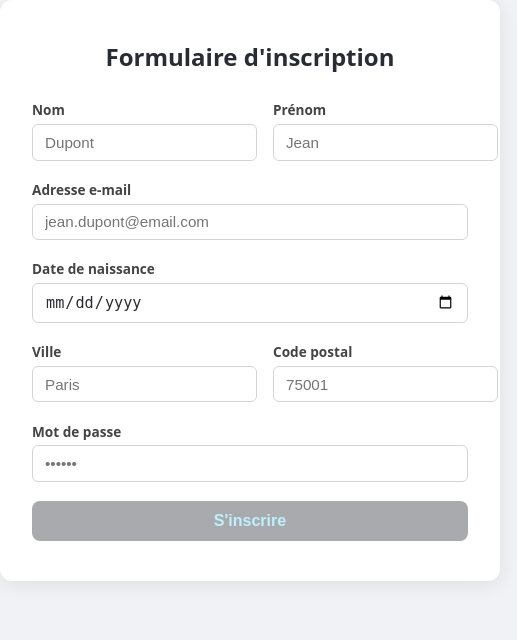
Test: shows a red error when prenom contains special characters after blur
The image size is (517, 640).
In the field labelled "Prénom": coordinates (386, 142) [273, 124, 498, 161], type "Julio2"
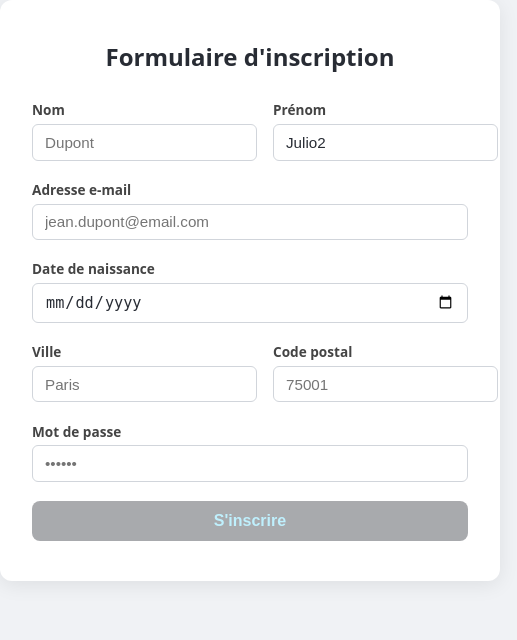
Leave the field labelled "Prénom", box [273, 124, 498, 161]
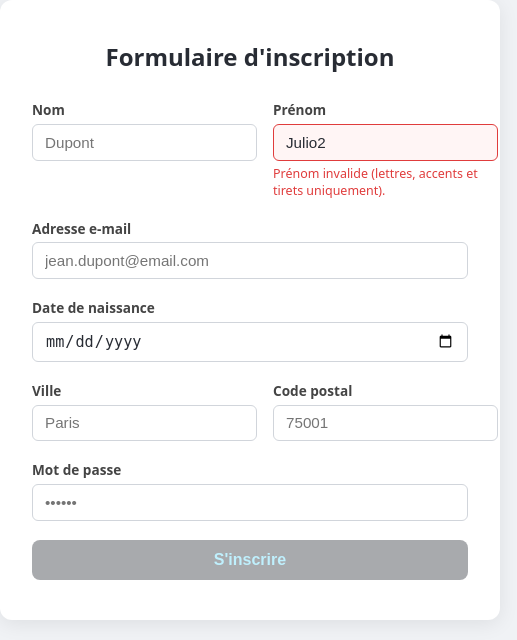
expect the text "Prénom invalide (lettres, accents et tirets uniquement)." is shown: met, box [273, 165, 498, 199]
